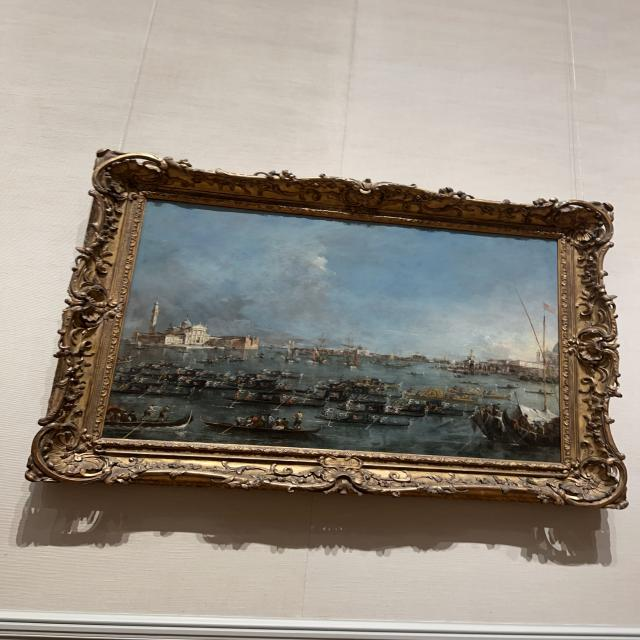ships: (108, 205, 554, 454)
